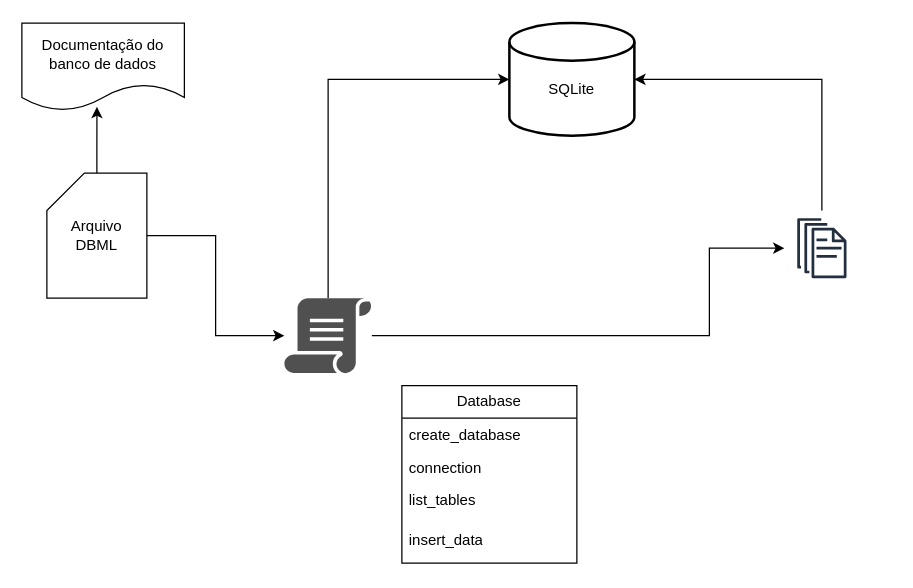
The diagram is 913 pixels wide and 588 high, and some of its shapes have lost their labels. Here are the shapes that lost their labels. From the top down, the centre of each, then its label:
pixel 821 247: Arquivos csv com os dados simulados
pixel 327 335: script de construção do banco de dados
